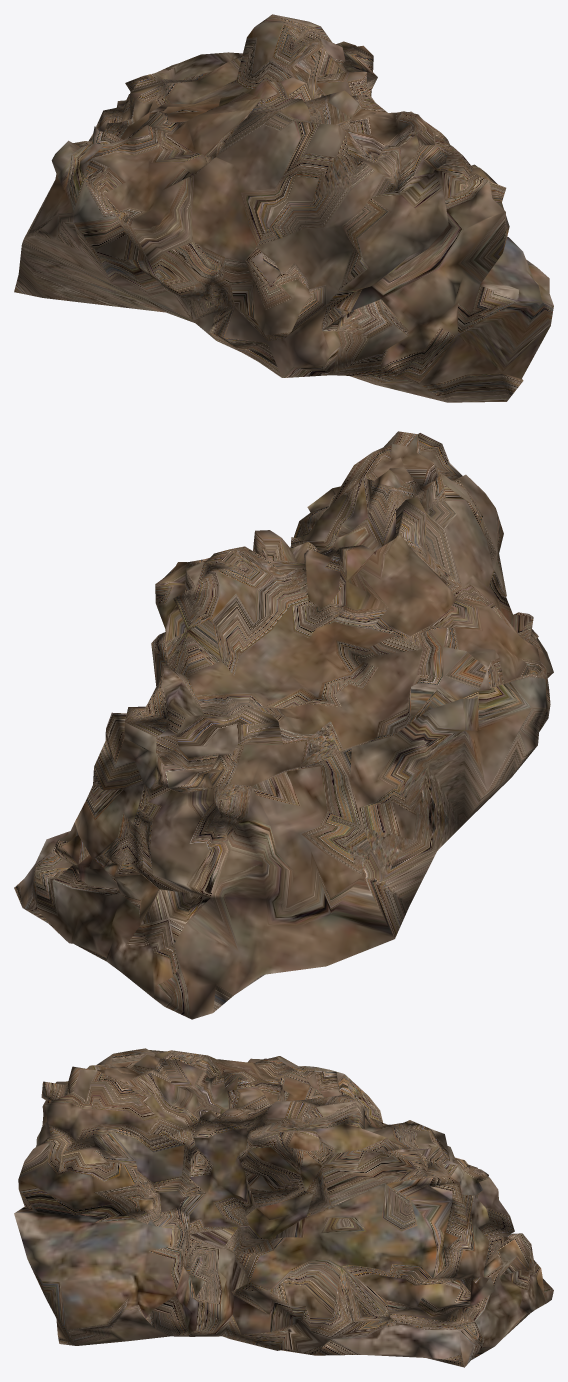
File: boulder_01-far.glb
The picture shows the model from 3 angles, top to bottom: view 1: azimuth 30°, elevation 25°; view 2: azimuth 150°, elevation 25°; view 3: azimuth 270°, elevation 25°; orthographic projection. The views are drawn at different scales.
Visible parts, largest first — view 1: boulder_01; view 2: boulder_01; view 3: boulder_01.
Boxes of the visible parts, <box> form: boulder_01: <box>14,14,553,402</box>; boulder_01: <box>14,431,553,1019</box>; boulder_01: <box>14,1048,553,1367</box>.
Size of the model in its own units: 1.27 by 1 by 1.83.
Materials: 1 (1 with a texture image).
